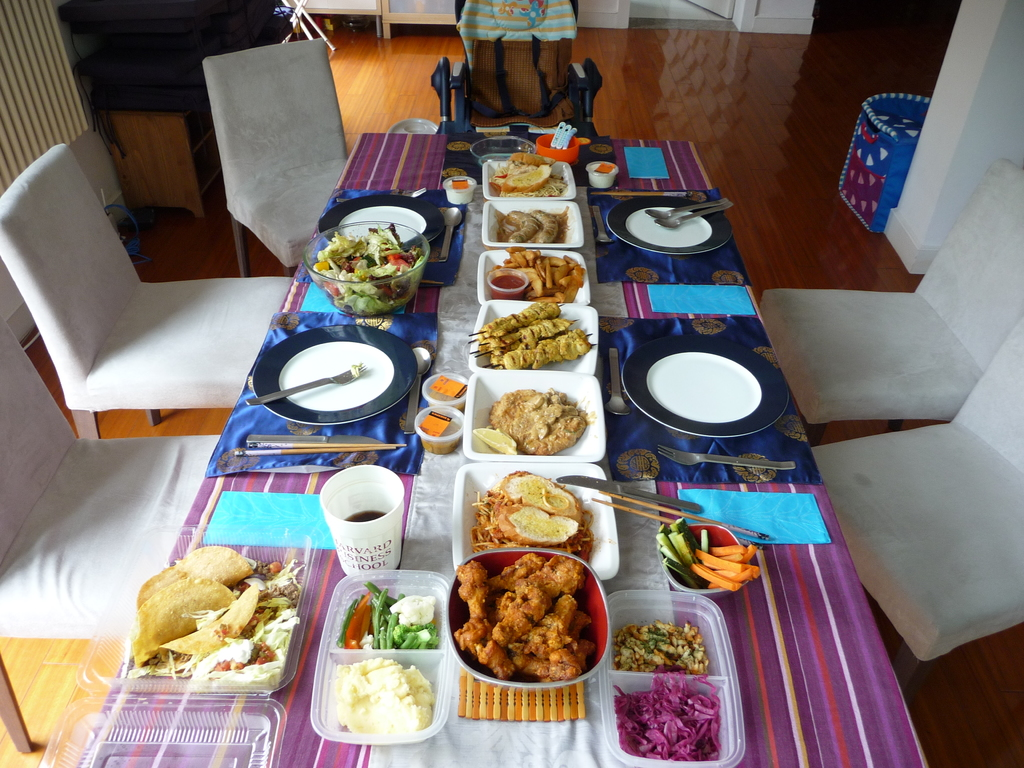plate: (650, 338, 767, 430)
